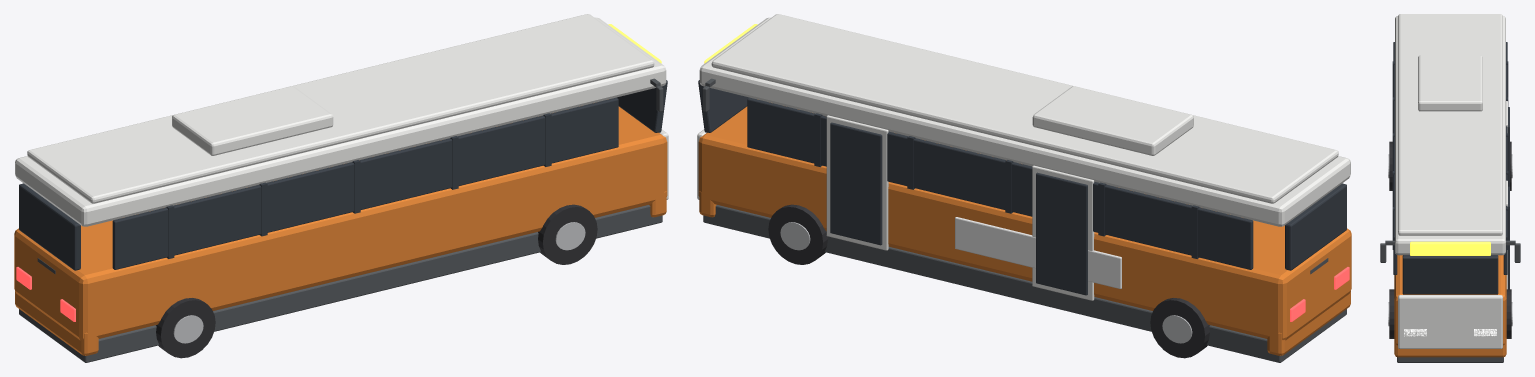
The model's file is bus-tcm.glb.
3 views of the same model, side by side, from view 1: azimuth 30°, elevation 25°; view 2: azimuth 150°, elevation 25°; view 3: azimuth 270°, elevation 25° (orthographic). The views are drawn at different scales.
Parts seen in each view (by area): view 1: TCM lower, TCM roof, TCM glassR, TCM upper, TCM skirt, TCM ac, TCM rearglass, TCM tyre3.9-1.05, TCM tyre-3.9-1.05, TCM windshield, TCM rearbumper, TCM hub-3.9-1.05 (+1 smaller); view 2: TCM roof, TCM lower, TCM glassL, TCM upper, TCM skirt, TCM ac, TCM door2.7, TCM door-1.5, TCM loompanel, TCM rearglass, TCM tyre-3.91.05, TCM tyre3.91.05 (+6 smaller); view 3: TCM roof, TCM frontmask, TCM windshield, TCM ac, TCM upper, TCM sign, TCM lower, TCM frontbumper, TCM skirt, TCM glassR, TCM glassL, TCM tyre3.9-1.05 (+8 smaller).
Part boxes in pixels (x1,y1,x2,y2): TCM lower: (14,106,667,340); TCM roof: (27,14,654,203); TCM glassR: (112,97,618,269); TCM upper: (15,17,666,226); TCM skirt: (19,205,662,362); TCM ac: (172,86,333,155); TCM rearglass: (19,183,80,270); TCM tyre3.9-1.05: (538,204,597,264); TCM tyre-3.9-1.05: (156,298,215,358); TCM windshield: (617,80,667,132); TCM rearbumper: (15,291,98,355); TCM hub-3.9-1.05: (173,315,203,343); TCM roof: (711,14,1338,203); TCM lower: (698,106,1351,340); TCM glassL: (747,97,1253,269); TCM upper: (699,17,1350,226); TCM skirt: (703,205,1346,362); TCM ac: (1032,86,1193,155); TCM door2.7: (830,122,882,245); TCM door-1.5: (1036,172,1087,295); TCM loompanel: (955,217,1121,288); TCM rearglass: (1285,183,1346,270); TCM tyre-3.91.05: (1150,298,1209,358); TCM tyre3.91.05: (768,204,827,264); TCM roof: (1398,14,1502,235); TCM frontmask: (1398,295,1502,348); TCM windshield: (1402,255,1498,294); TCM ac: (1418,55,1482,111); TCM upper: (1395,16,1505,255); TCM sign: (1410,241,1490,255); TCM lower: (1394,255,1506,345); TCM frontbumper: (1394,338,1506,357); TCM skirt: (1397,357,1503,362); TCM glassR: (1393,42,1397,274); TCM glassL: (1503,42,1507,274); TCM tyre3.9-1.05: (1389,289,1394,338).
Size of the model in its own units: 12.11 by 3.7 by 3.13.
